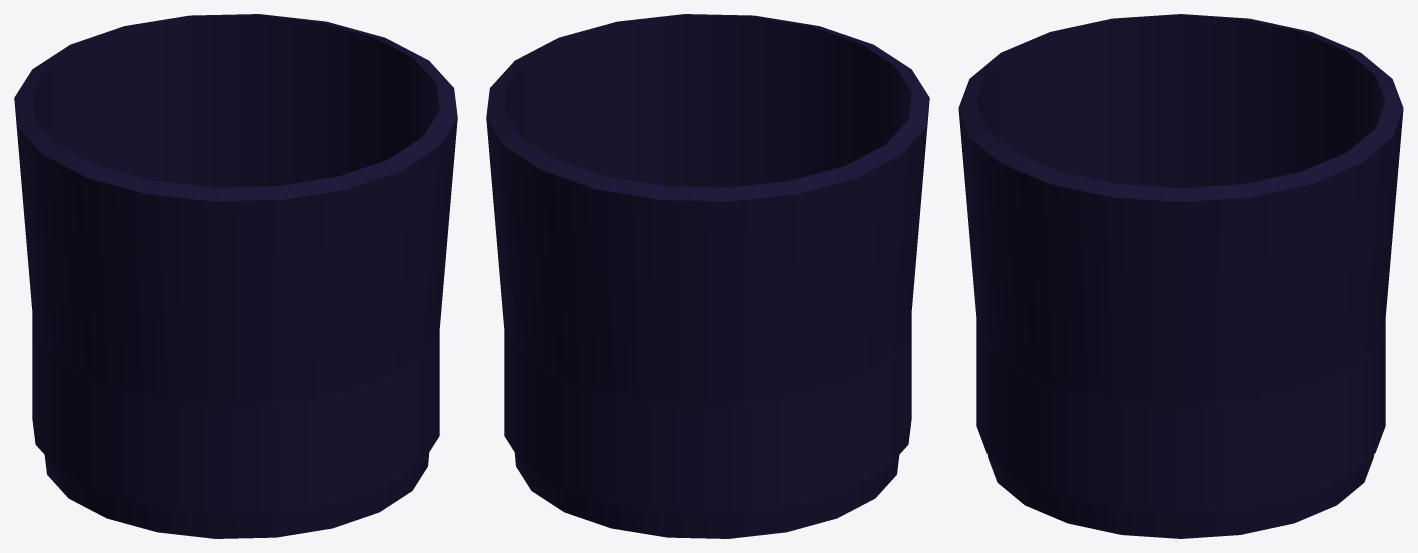
Rendered from BasureroBano.fbx.
3 views of the same model, side by side, from view 1: azimuth 30°, elevation 25°; view 2: azimuth 150°, elevation 25°; view 3: azimuth 270°, elevation 25° (orthographic).
Visible parts, largest first — view 1: basurero; view 2: basurero; view 3: basurero.
Part boxes in pixels (box(x1,y1,x2,y2)): basurero: box(14, 14, 457, 538); basurero: box(486, 14, 929, 538); basurero: box(958, 14, 1403, 538).
Size of the model in its own units: 0.8851 by 0.7802 by 0.8851.
